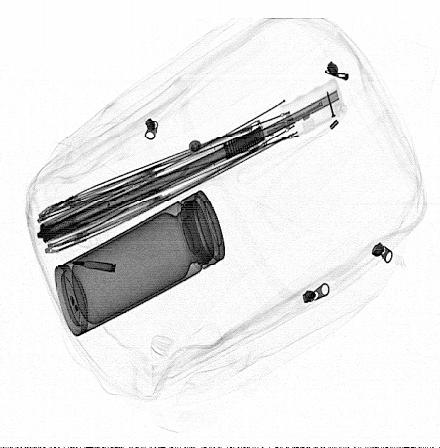Bullet: (72, 261, 116, 273)
